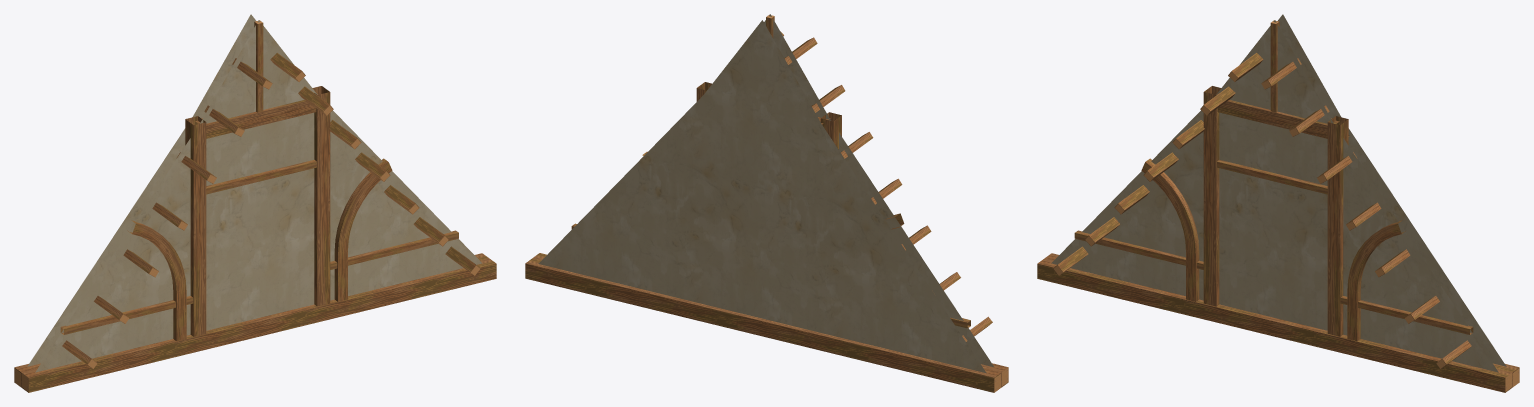
Rendered from Roof_Front_Brick8.gltf.
3 views of the same model, side by side, from view 1: azimuth 30°, elevation 25°; view 2: azimuth 150°, elevation 25°; view 3: azimuth 330°, elevation 25° (orthographic).
Parts seen in each view (by area): view 1: Roof_Front_Brick8; view 2: Roof_Front_Brick8; view 3: Roof_Front_Brick8.
Boxes of the visible parts, bbox=[...] form: Roof_Front_Brick8: bbox=[14, 14, 496, 392]; Roof_Front_Brick8: bbox=[525, 14, 1008, 392]; Roof_Front_Brick8: bbox=[1037, 14, 1519, 392].
Size of the model in its own units: 8.51 by 5.45 by 1.13.
2 materials, 2 textured.
